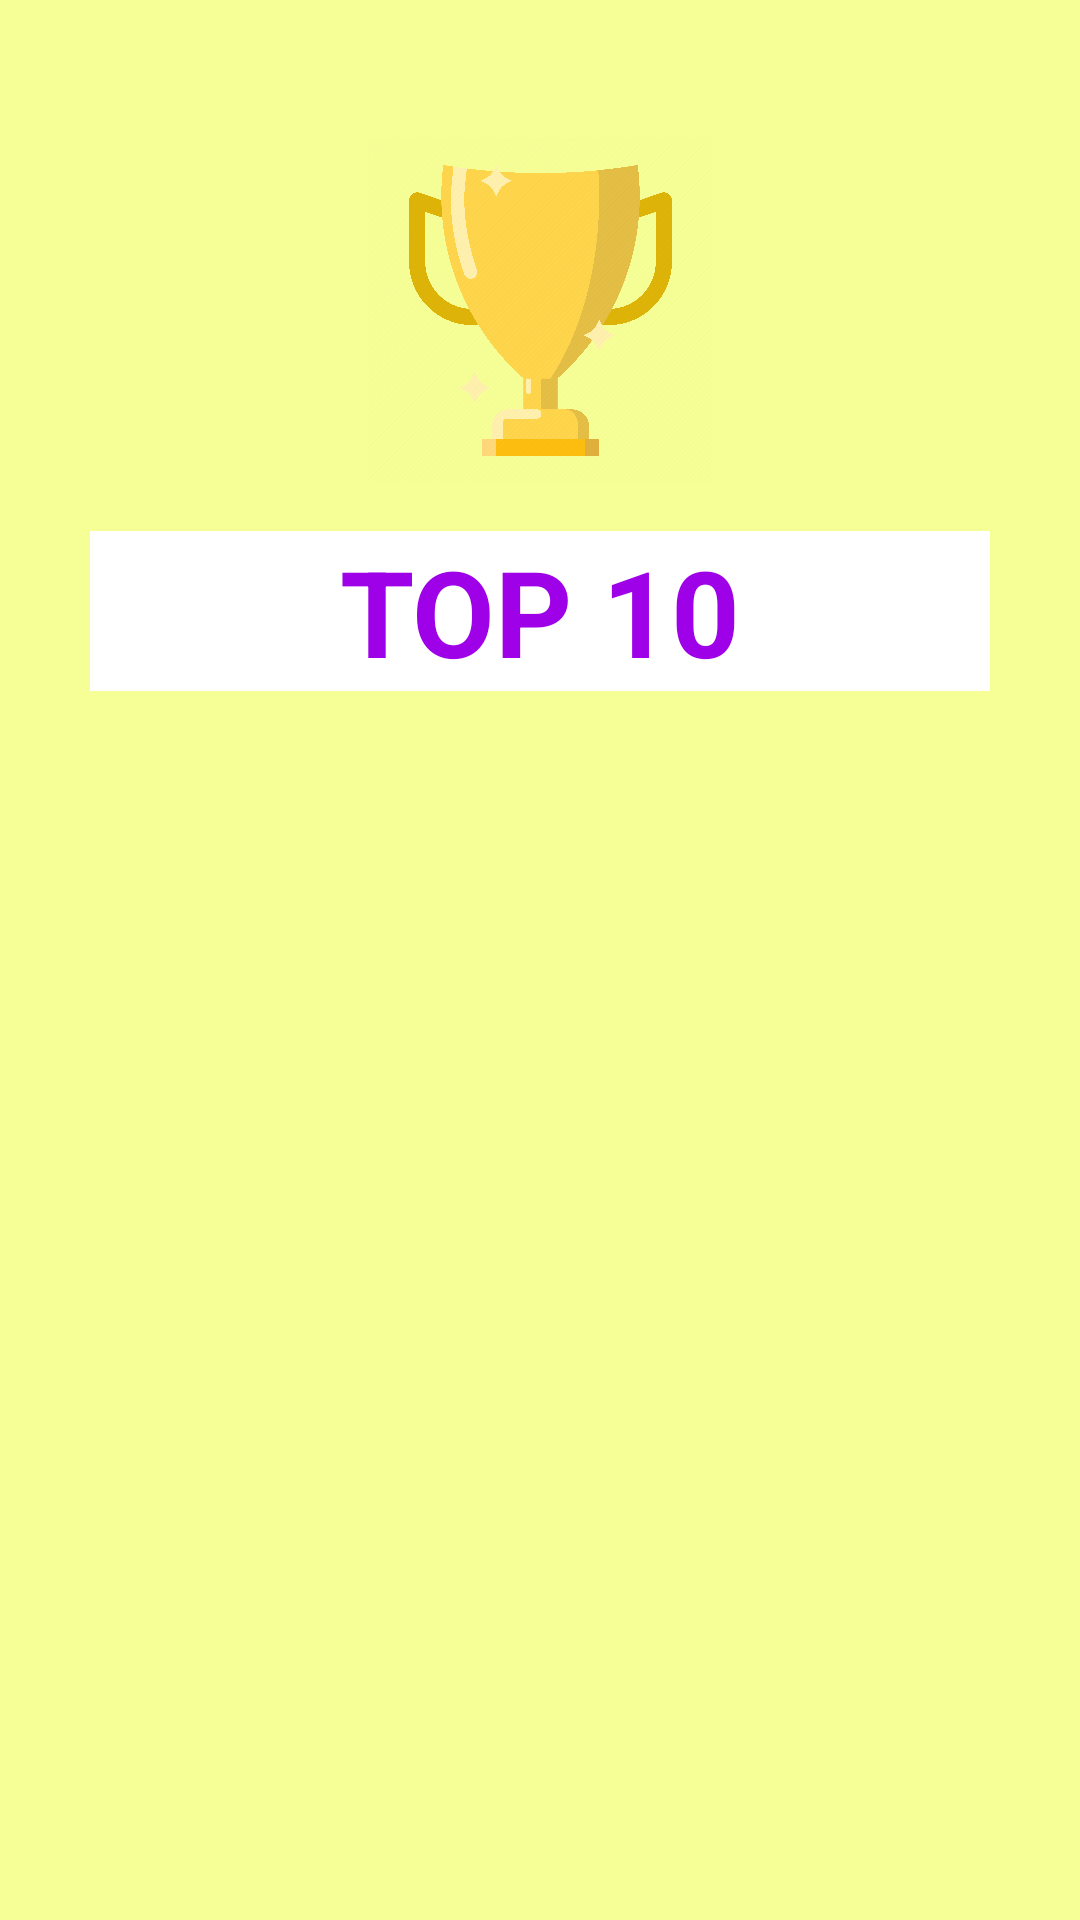

Where icons sit on this 1080 x 1920 app screen, as [x1,y1,x2,y2]:
cup: [409,165,672,456]
